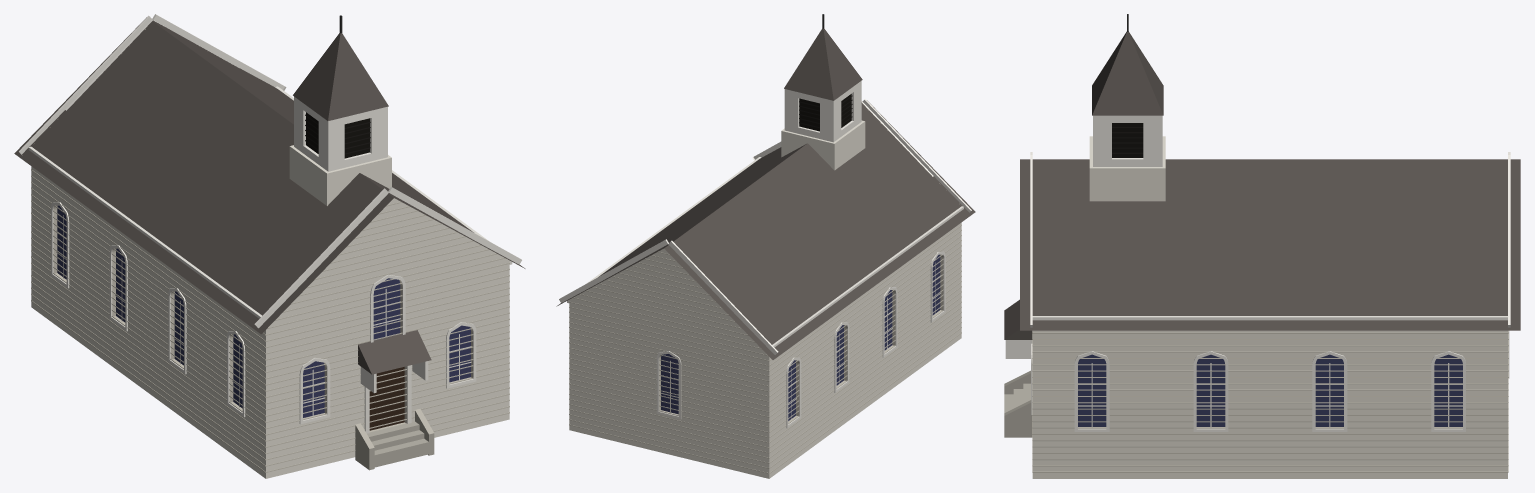
The model's file is ch-st-pauls-episcopal-chapel-1913.glb.
3 renders of one model, left to right at view 1: azimuth 30°, elevation 25°; view 2: azimuth 150°, elevation 25°; view 3: azimuth 270°, elevation 25°, orthographic. The views are drawn at different scales.
Parts seen in each view (by area): view 1: ch_brick, ch_roof, ch_brick2, ch_trim, ch_roof2, ch_stain, ch_conc, ch_door, ch_shadow; view 2: ch_brick, ch_roof, ch_brick2, ch_trim, ch_roof2, ch_stain, ch_shadow; view 3: ch_roof, ch_brick, ch_brick2, ch_trim, ch_stain, ch_roof2, ch_conc, ch_shadow.
Part boxes in pixels (x1,y1,x2,y2): ch_brick: [31, 145, 509, 478]; ch_roof: [14, 17, 525, 334]; ch_brick2: [31, 29, 509, 472]; ch_trim: [19, 14, 521, 433]; ch_roof2: [293, 33, 431, 374]; ch_stain: [57, 205, 470, 417]; ch_conc: [355, 409, 434, 470]; ch_door: [369, 367, 404, 430]; ch_shadow: [306, 112, 369, 158]; ch_brick: [569, 120, 961, 478]; ch_roof: [556, 100, 975, 359]; ch_brick2: [569, 110, 961, 473]; ch_trim: [559, 81, 971, 428]; ch_roof2: [784, 28, 862, 100]; ch_stain: [661, 254, 940, 420]; ch_shadow: [799, 94, 851, 131]; ch_roof: [1020, 159, 1520, 330]; ch_brick: [1032, 136, 1507, 478]; ch_brick2: [1032, 330, 1508, 472]; ch_trim: [1005, 115, 1510, 431]; ch_stain: [1078, 354, 1462, 426]; ch_roof2: [1004, 31, 1163, 339]; ch_conc: [1004, 370, 1032, 437]; ch_shadow: [1112, 123, 1143, 157].
Bounding box in the file's own units: 9.84 × 14.17 × 16.3.
